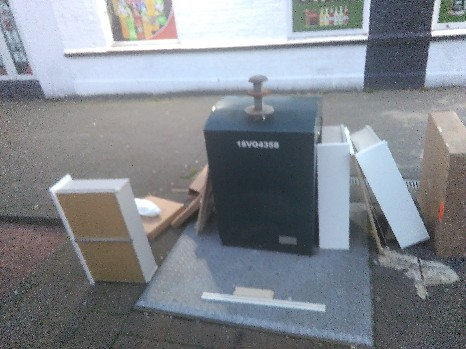Container: (202, 87, 321, 271)
Papier: (431, 117, 466, 251)
Rest: (327, 125, 409, 267), (75, 179, 169, 290)
